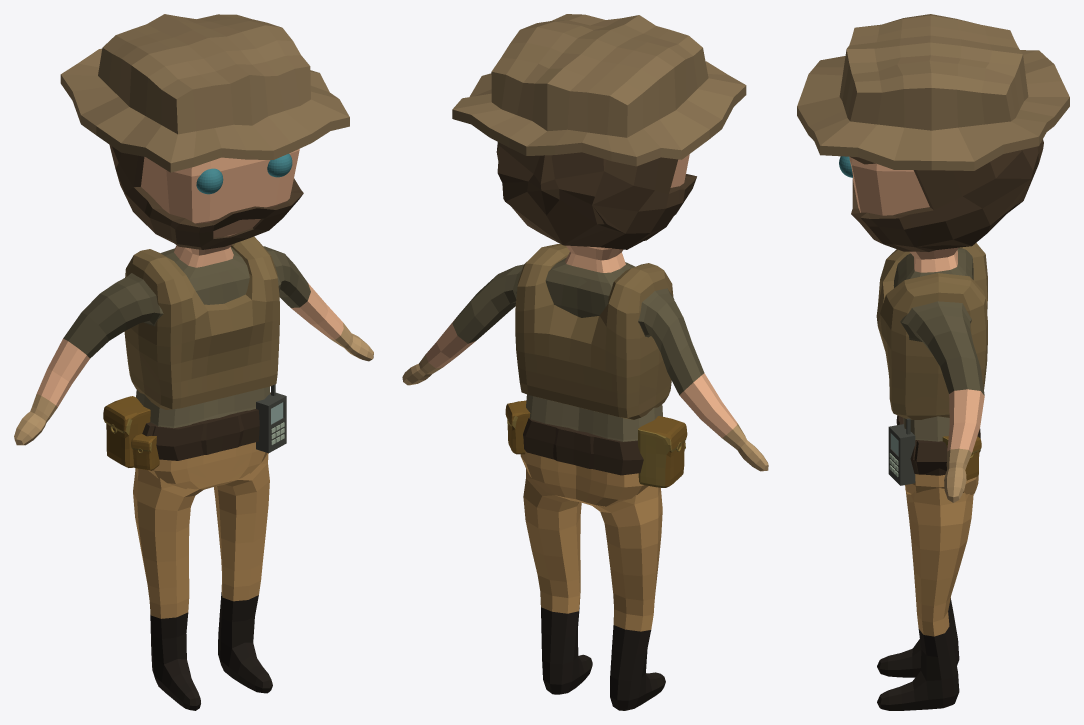
File: 5 - Price.fbx
3 renders of one model, left to right at view 1: azimuth 30°, elevation 25°; view 2: azimuth 150°, elevation 25°; view 3: azimuth 270°, elevation 25°, orthographic.
Parts seen in each view (by area): view 1: Cube.012, Cube.010, Cube.013, Cube.014, Torus.001, Cube.008, Cube.007_Cube.008, Cube.011; view 2: Cube.012, Cube.010, Cube.013, Cube.014, Torus.001, Cube.008, Cube.009; view 3: Cube.010, Cube.012, Cube.014, Cube.013, Cube.007_Cube.008, Torus.001, Cube.009.
Boxes of the visible parts, x1,y1,x2,y2 form: Cube.012: (14,149,373,710); Cube.010: (60,14,349,172); Cube.013: (124,236,279,409); Cube.014: (109,144,303,249); Torus.001: (142,392,270,460); Cube.008: (103,396,150,467); Cube.007_Cube.008: (256,384,286,453); Cube.011: (131,434,159,470); Cube.012: (402,154,768,710); Cube.010: (452,14,746,166); Cube.013: (515,244,673,419); Cube.014: (496,142,696,249); Torus.001: (523,418,643,475); Cube.008: (638,416,687,487); Cube.009: (505,400,530,454); Cube.010: (797,14,1069,170); Cube.012: (849,156,984,710); Cube.014: (850,139,1043,251); Cube.013: (876,243,987,419); Cube.007_Cube.008: (888,418,915,485); Torus.001: (896,415,980,475); Cube.009: (942,436,981,480).
Bounding box in the file's own units: 108 × 187 × 70.91.
Materials: 2 (1 with a texture image).
